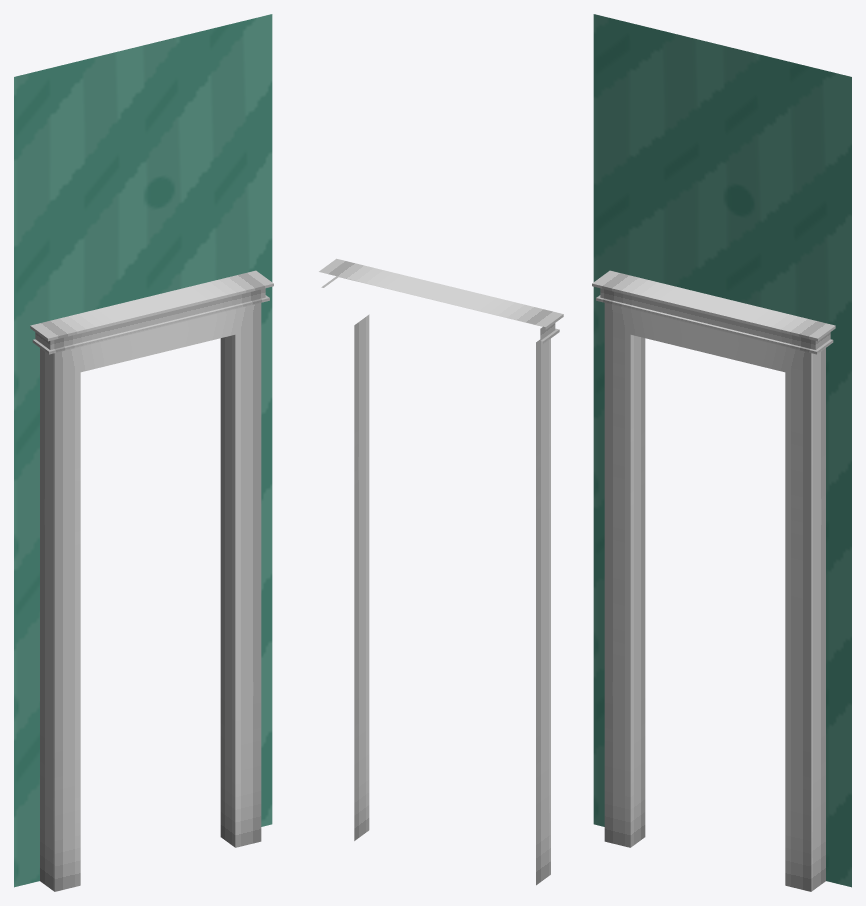
File: STFdoor_frame.glb
3 views of the same model, side by side, from view 1: azimuth 30°, elevation 25°; view 2: azimuth 150°, elevation 25°; view 3: azimuth 330°, elevation 25° (orthographic).
Visible parts, largest first — view 1: STFdoor_frame; view 2: STFdoor_frame; view 3: STFdoor_frame.
Boxes of the visible parts, x1=… form: STFdoor_frame: x1=14, y1=14, x2=273, y2=891; STFdoor_frame: x1=319, y1=258, x2=563, y2=885; STFdoor_frame: x1=592, y1=14, x2=851, y2=891.
Size of the model in its own units: 1 by 3 by 0.12.
2 materials, 2 textured.
